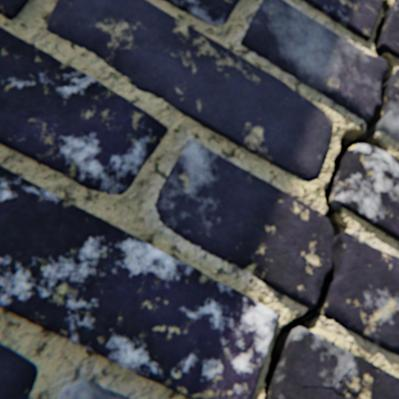brick: (0, 164, 280, 398), (48, 0, 332, 181), (0, 26, 168, 193), (271, 325, 398, 398), (333, 144, 398, 240), (302, 0, 382, 41), (0, 342, 38, 398), (165, 0, 239, 27), (379, 0, 398, 58), (0, 0, 29, 19)
broken_brick: (156, 139, 333, 307), (241, 0, 386, 121), (322, 231, 398, 353), (58, 376, 131, 398), (378, 70, 398, 140)
crack: (264, 0, 398, 398), (321, 367, 361, 398), (302, 384, 319, 386)
